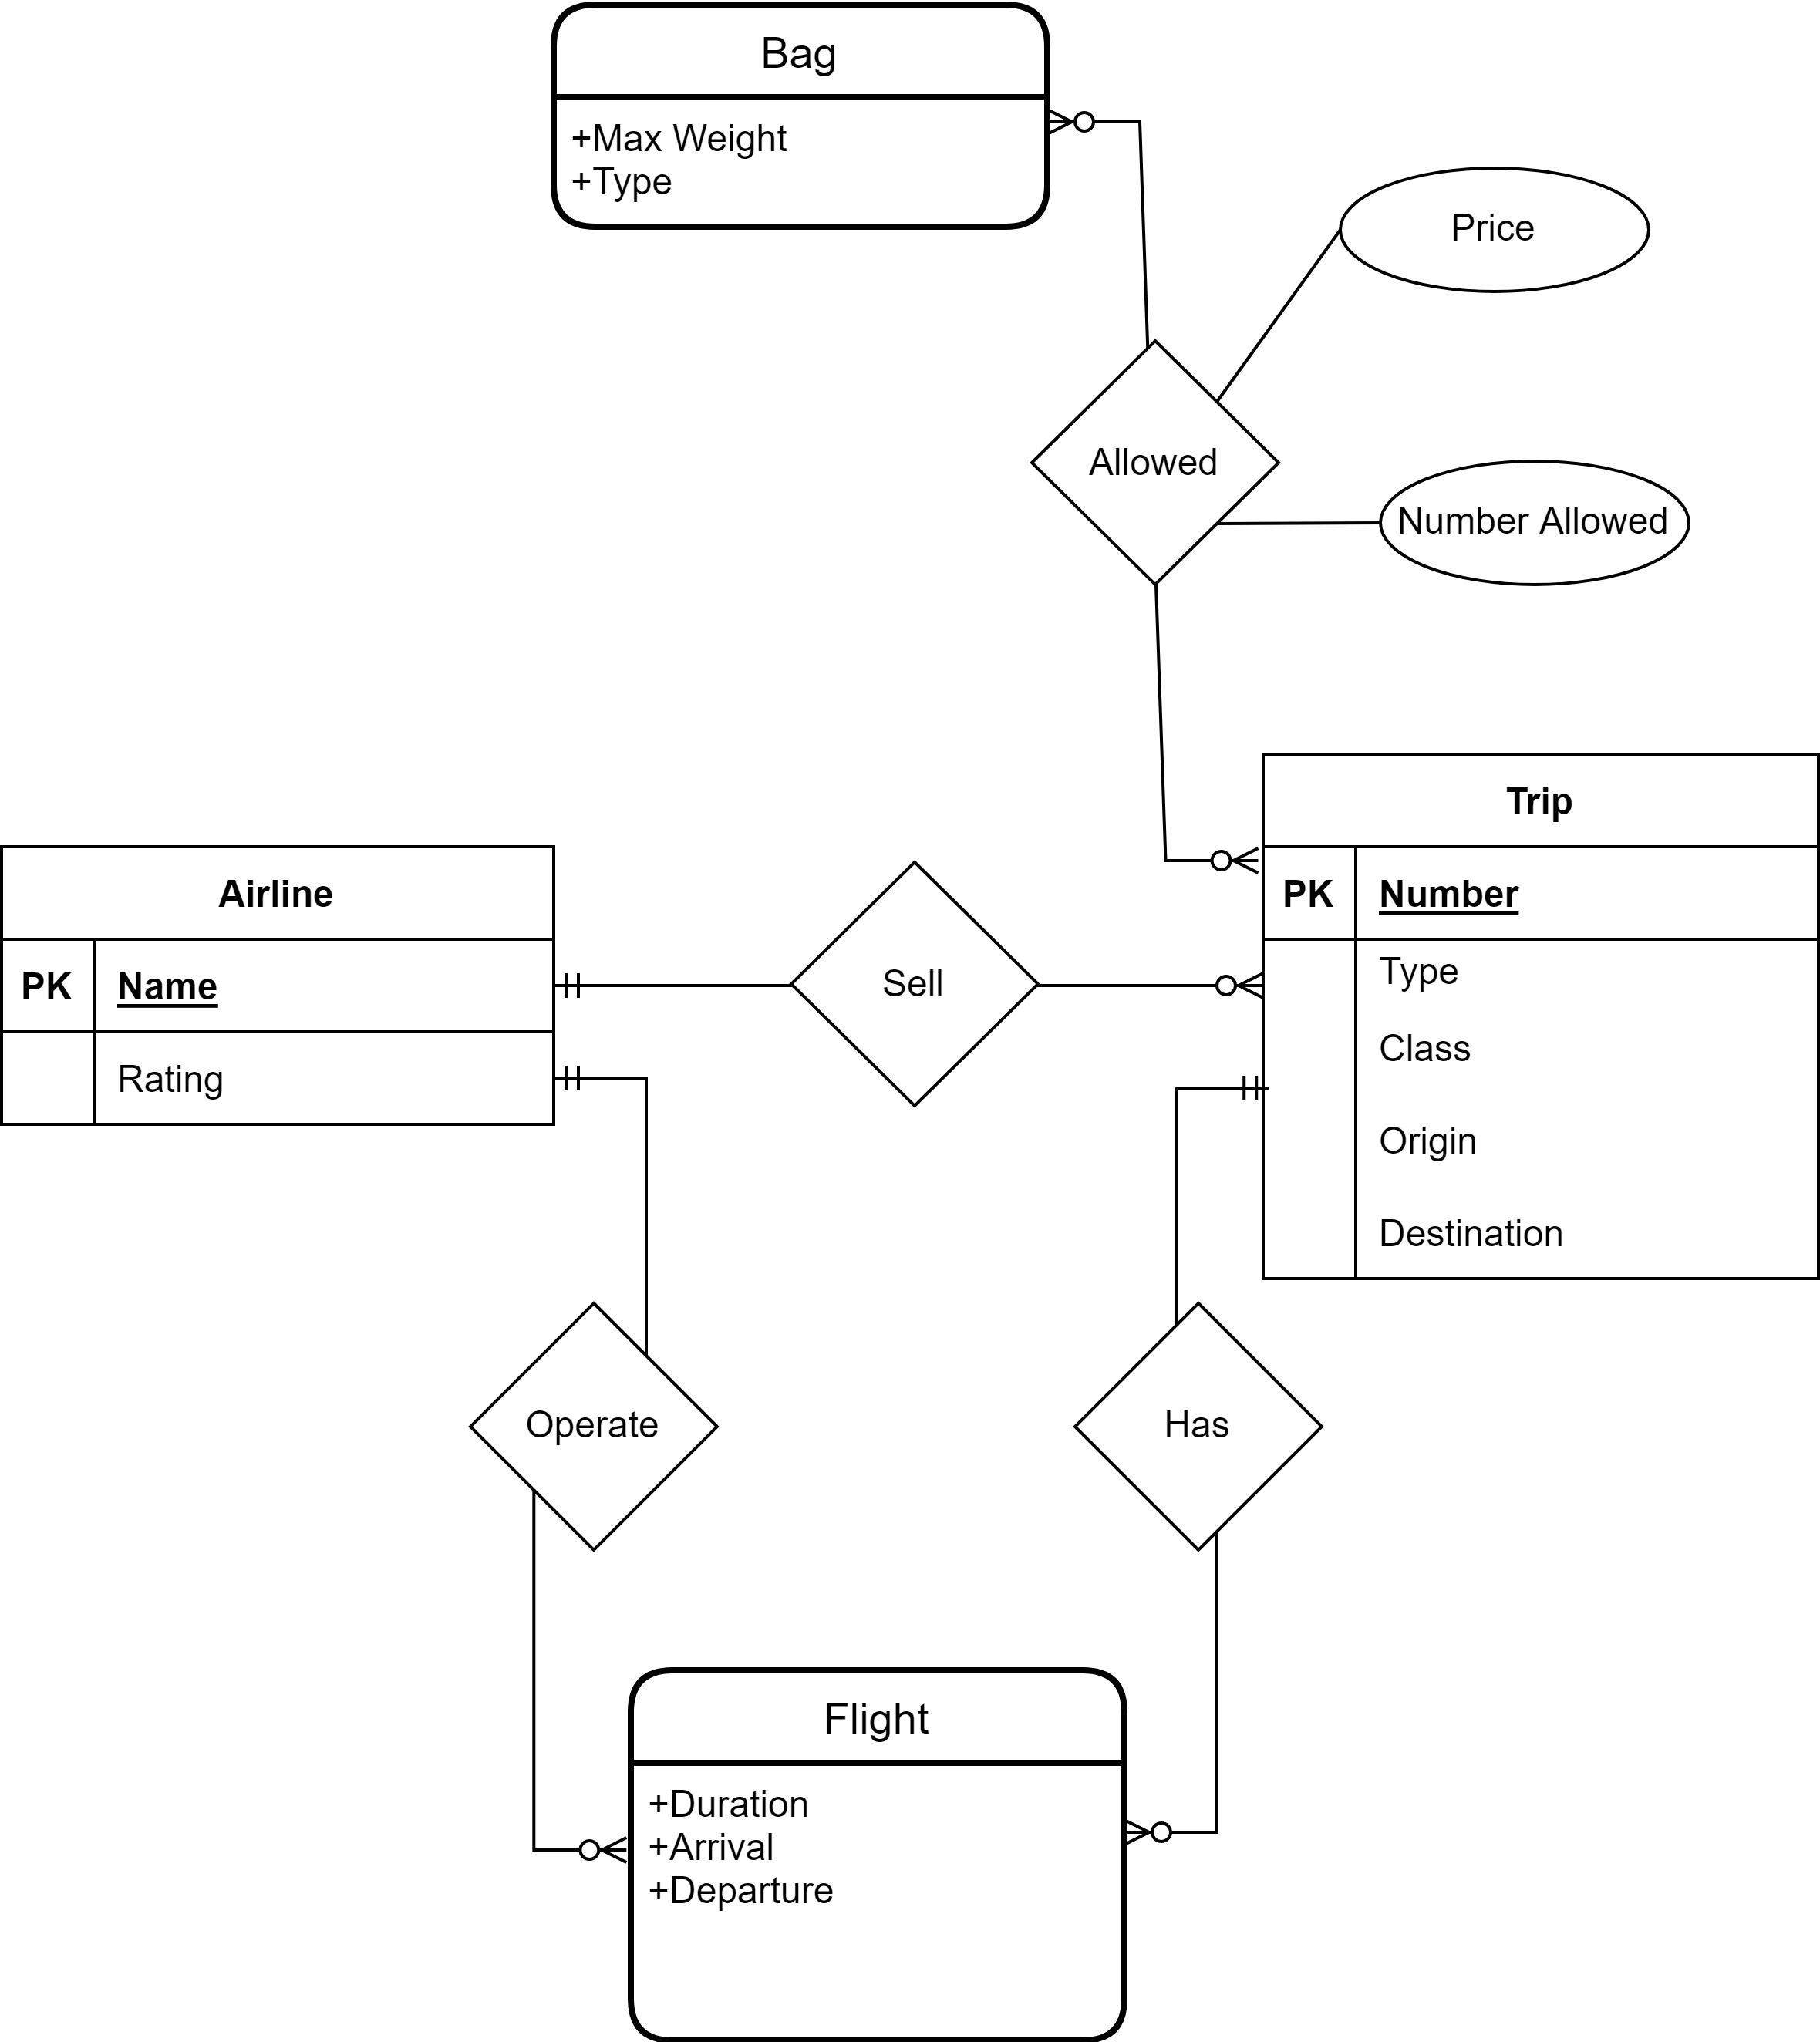entity: (1263, 747, 1820, 1278), (634, 1675, 1121, 2040), (2, 847, 548, 1125), (552, 4, 1045, 221)
many: (529, 1814, 634, 1887), (1163, 819, 1258, 887), (1123, 1807, 1217, 1859), (1045, 95, 1124, 153), (1181, 965, 1267, 1007)
one: (550, 959, 638, 1017), (1175, 1065, 1263, 1116), (559, 1053, 645, 1104)
rel: (1075, 1297, 1328, 1550), (469, 1302, 713, 1552), (792, 858, 1036, 1105), (1035, 341, 1282, 580)
rel_attr: (1377, 455, 1690, 590), (1339, 163, 1651, 292)
